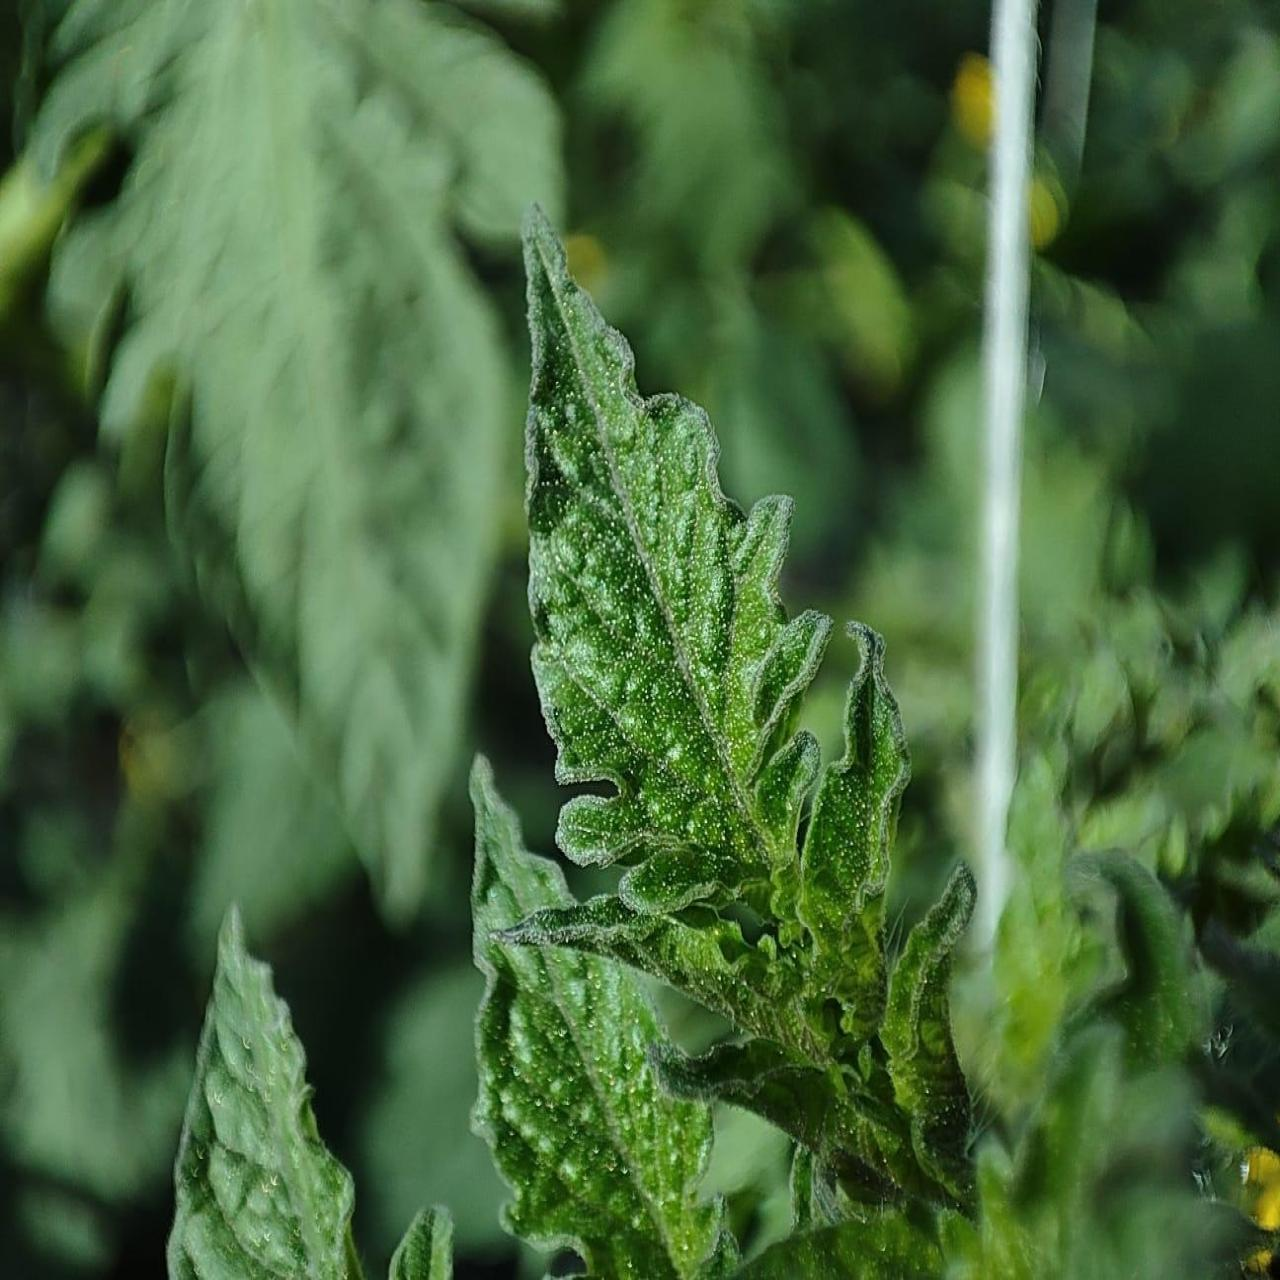T_L_R: (526, 218, 831, 928), (471, 758, 738, 1278), (168, 911, 360, 1279), (804, 624, 908, 938)
